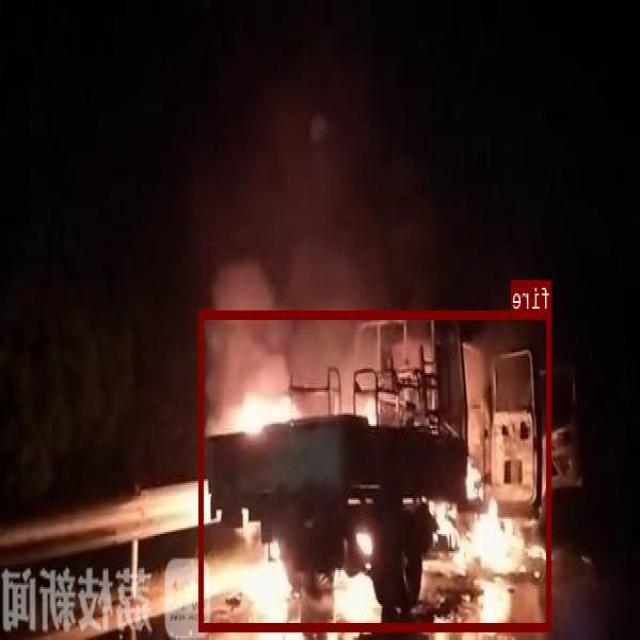fire: (200, 309, 552, 630)
